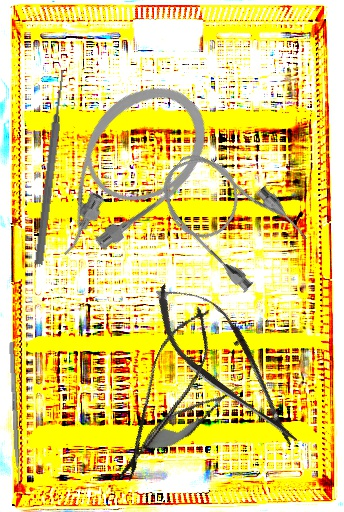Cannula: (14, 63, 230, 281), (143, 131, 315, 300)
Micro Scissor: (137, 265, 319, 463), (104, 296, 226, 492), (132, 371, 250, 464)
Pusher: (33, 68, 69, 266), (8, 341, 23, 500)
